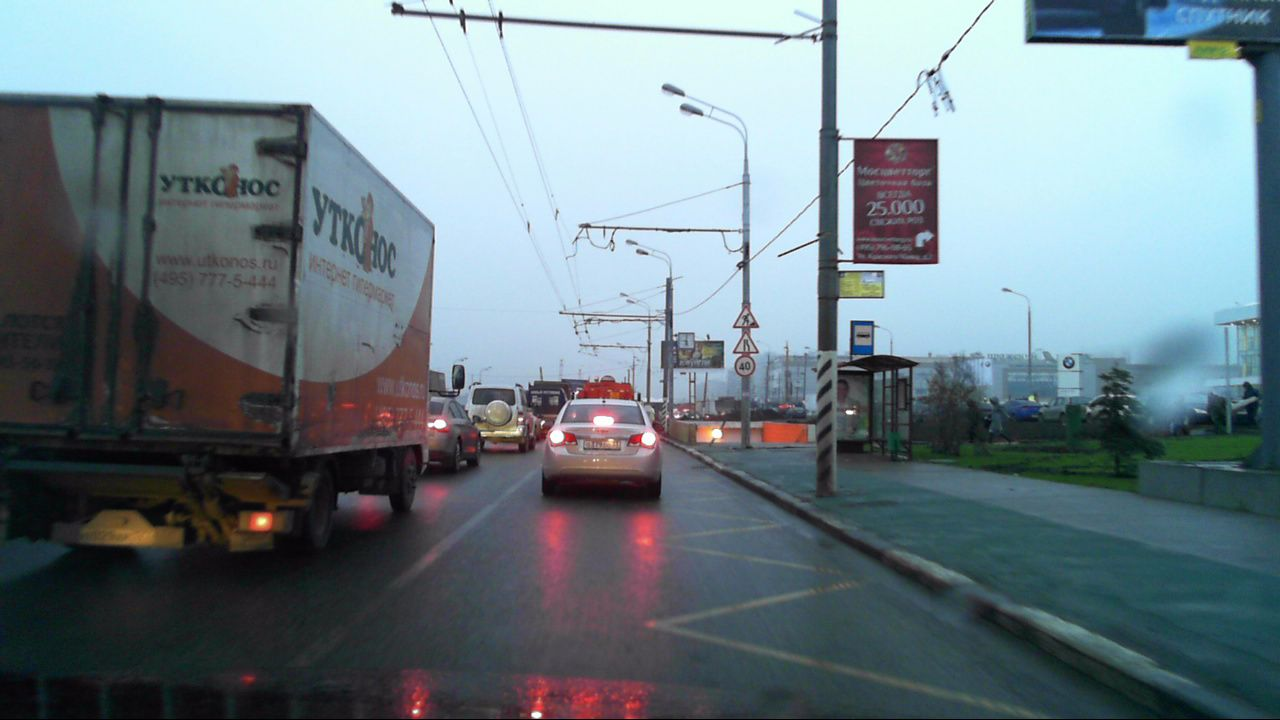speed_warning_40: (734, 356, 755, 376)
